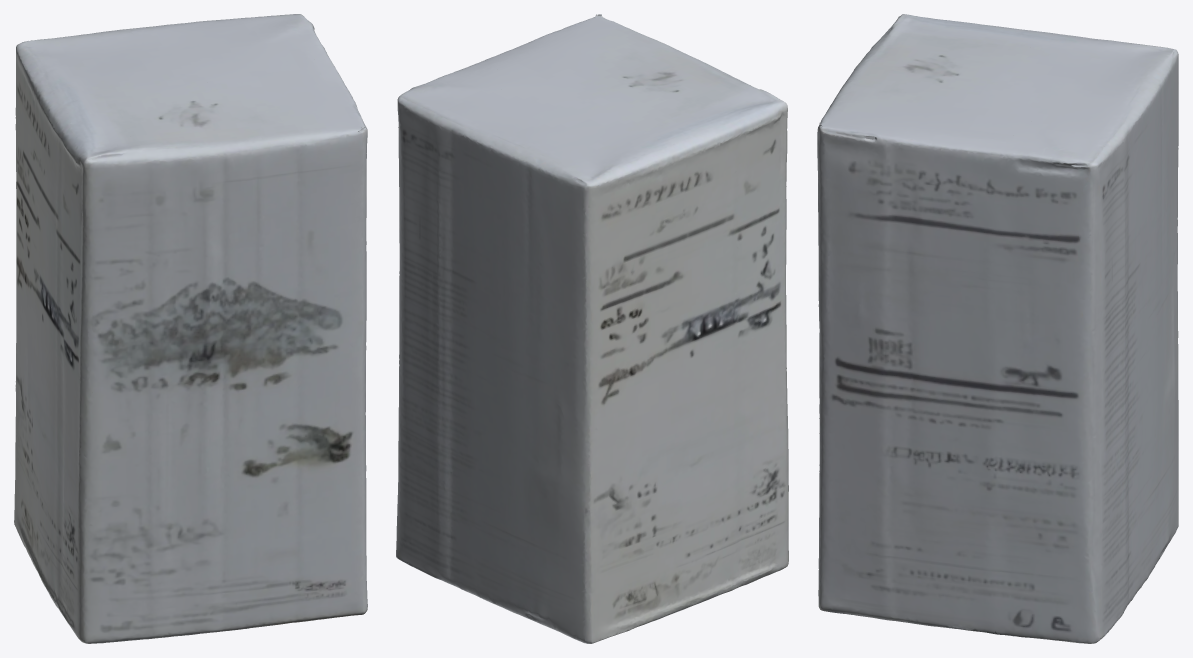
Rendered from Perricone_MD_Omega_3_Supplements.glb.
3 views of the same model, side by side, from view 1: azimuth 30°, elevation 25°; view 2: azimuth 150°, elevation 25°; view 3: azimuth 270°, elevation 25° (orthographic). The views are drawn at different scales.
Parts seen in each view (by area): view 1: geometry_0; view 2: geometry_0; view 3: geometry_0.
Part boxes in pixels (x1=…): geometry_0: x1=14, y1=14, x2=367, y2=643; geometry_0: x1=396, y1=14, x2=788, y2=643; geometry_0: x1=817, y1=14, x2=1178, y2=643.
Bounding box in the file's own units: 0.6715 × 0.9982 × 0.6693.
Materials: 1 (1 with a texture image).
